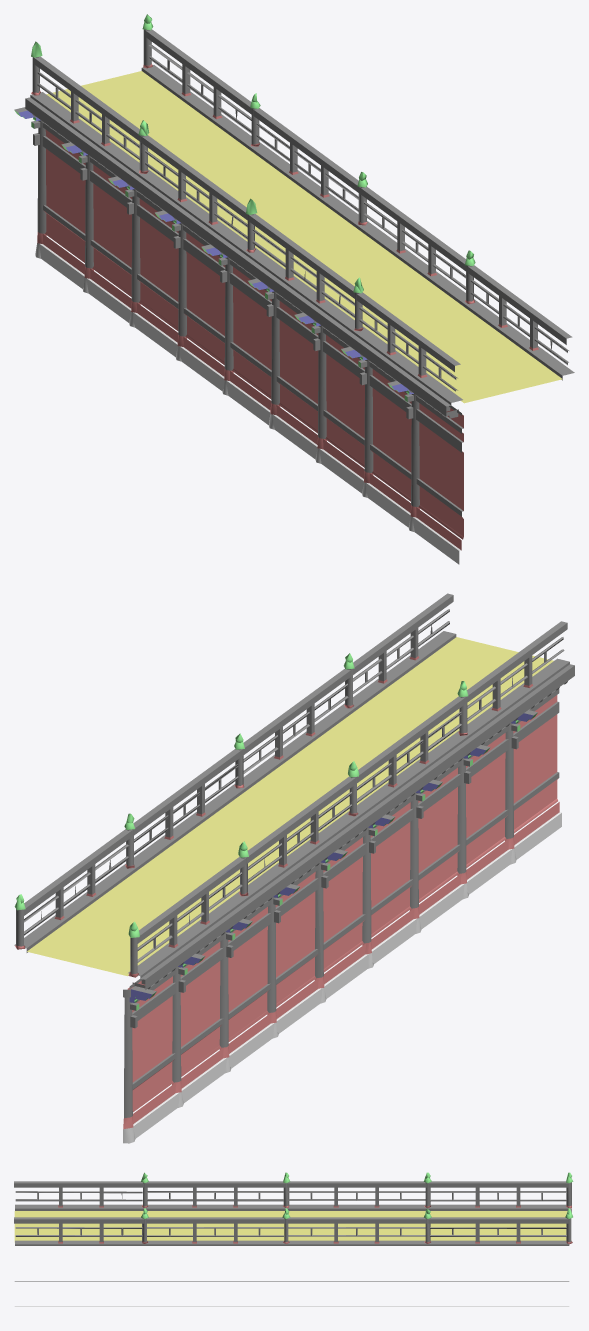
File: SM_ENV_LKNVLD_WallSet_Straight_Lod2.gltf
3 renders of one model, top to bottom at view 1: azimuth 30°, elevation 25°; view 2: azimuth 150°, elevation 25°; view 3: azimuth 270°, elevation 25°, orthographic. The views are drawn at different scales.
Parts seen in each view (by area): view 1: SM_ENV_LKNVLD_WallSet_Straight_Lod2; view 2: SM_ENV_LKNVLD_WallSet_Straight_Lod2; view 3: SM_ENV_LKNVLD_WallSet_Straight_Lod2.
Part boxes in pixels (x1,y1,x2,y2): SM_ENV_LKNVLD_WallSet_Straight_Lod2: (14,14,574,564); SM_ENV_LKNVLD_WallSet_Straight_Lod2: (14,593,574,1143); SM_ENV_LKNVLD_WallSet_Straight_Lod2: (14,1172,573,1306).
Size of the model in its own units: 5.58 by 8.33 by 29.87.
